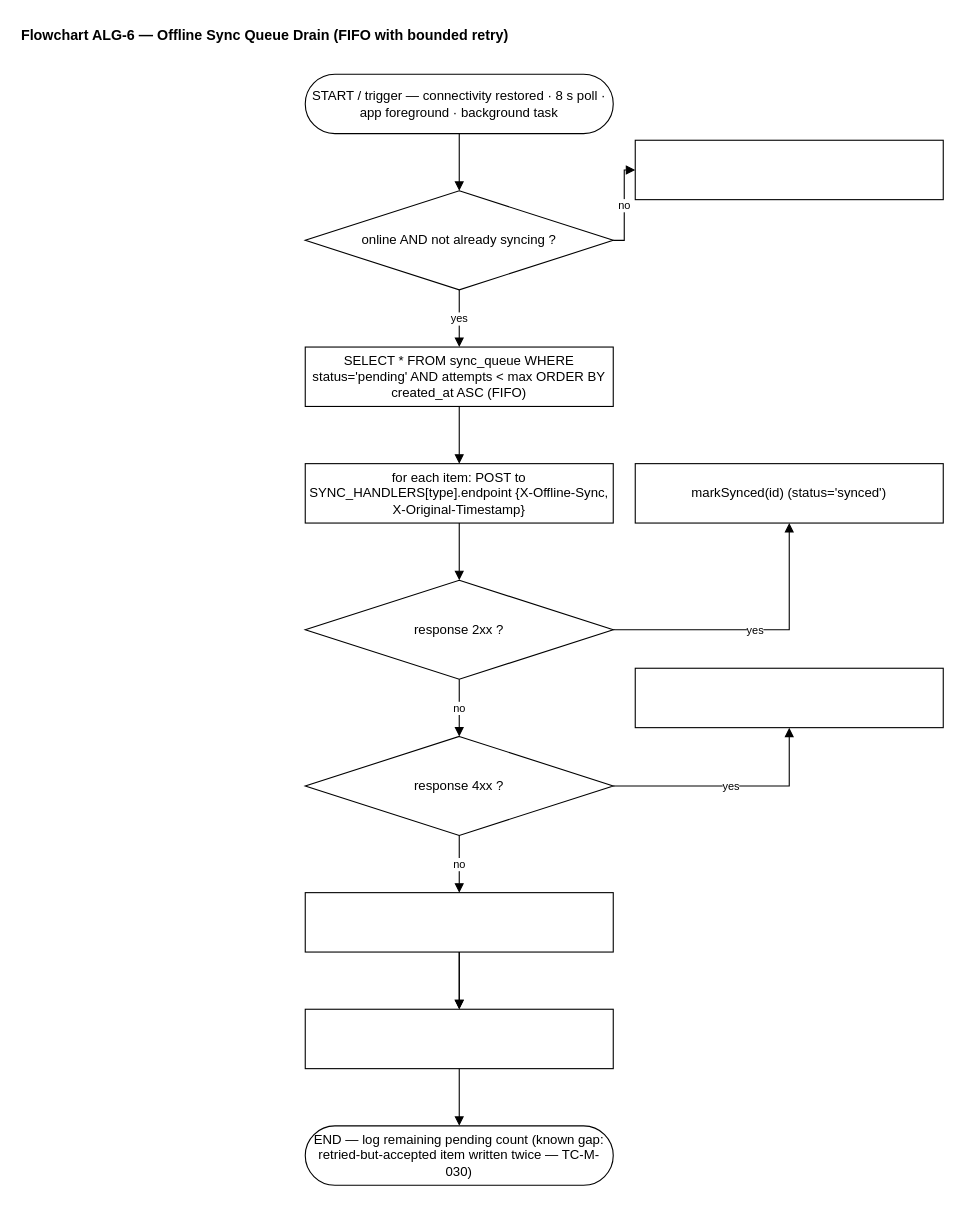
The diagram is 963 pixels wide and 1205 high, and some of its shapes have lost their labels. Here are the shapes that lost their labels. From the top down, the centre of each, then its label:
At (x=788, y=169): "return (skip)".
At (x=788, y=697): "markFailed(id) — permanent (bad data, never retry)".
At (x=458, y=922): "attempts++; status = attempts ≥ 5 ? 'failed' : 'pending'".
At (x=458, y=1038): "wait 300 ms (rate-limit) → next item".
